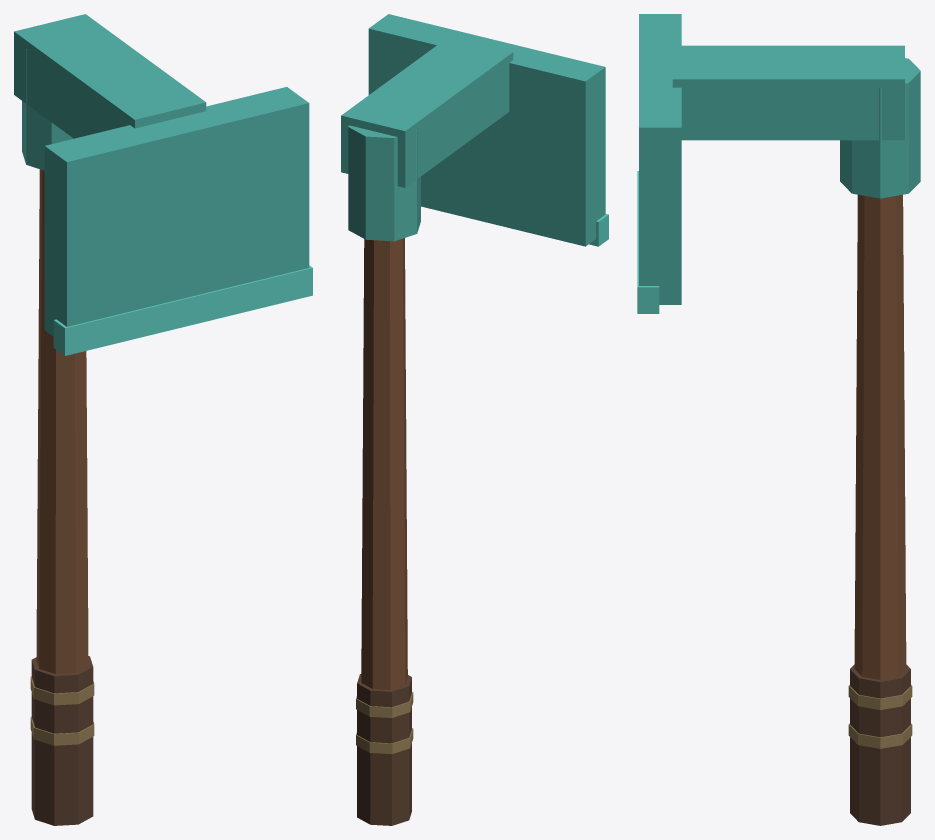
The model's file is tool_hoe_alloy.glb.
3 views of the same model, side by side, from view 1: azimuth 30°, elevation 25°; view 2: azimuth 150°, elevation 25°; view 3: azimuth 270°, elevation 25° (orthographic). The views are drawn at different scales.
Parts seen in each view (by area): view 1: tool_hoe_alloy; view 2: tool_hoe_alloy; view 3: tool_hoe_alloy.
Boxes of the visible parts, left/top/right/bottom form: tool_hoe_alloy: left=14, top=14, right=312, bottom=825; tool_hoe_alloy: left=341, top=14, right=608, bottom=825; tool_hoe_alloy: left=637, top=14, right=920, bottom=825.
Size of the model in its own units: 0.225 by 0.6775 by 0.232.
